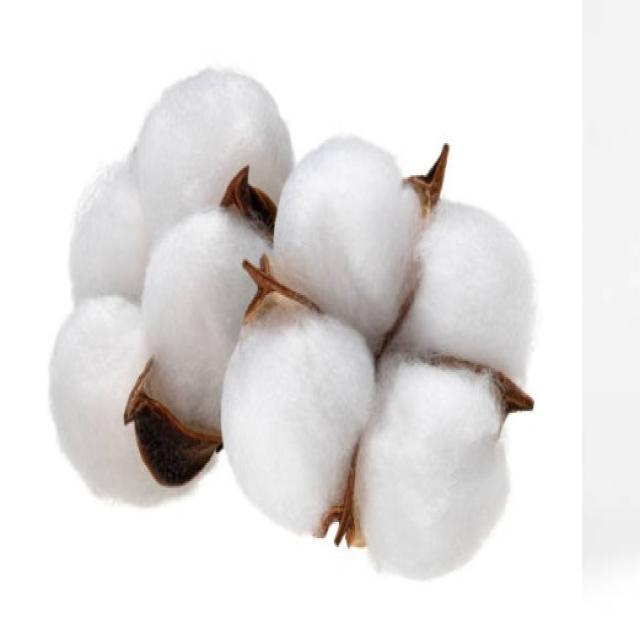Matured Cotton Boll: (223, 144, 521, 570), (50, 76, 302, 513)
